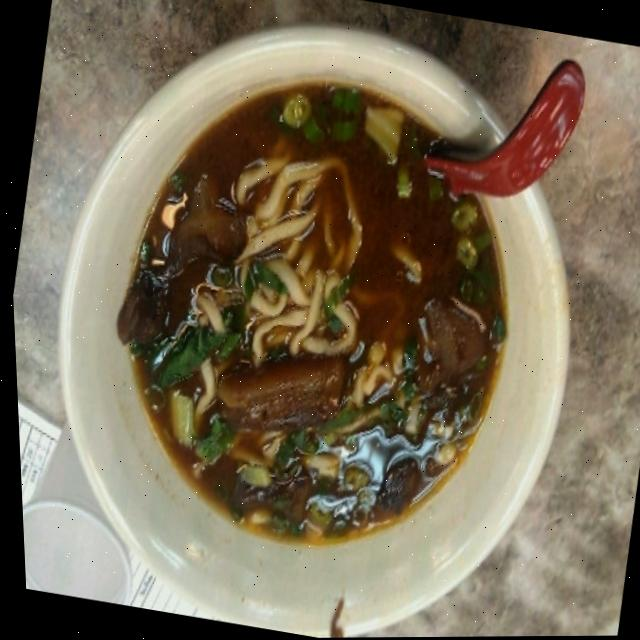面条主食: (45, 23, 590, 616)
